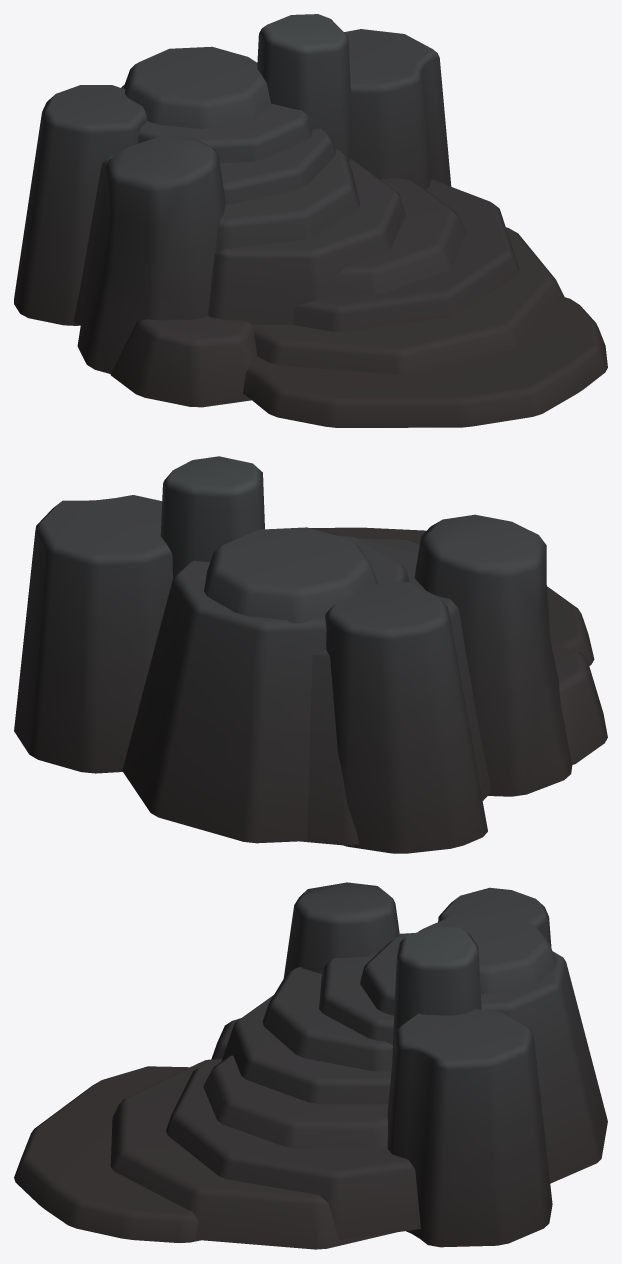
Rendered from inferno-stairs-middle-001.glb.
3 renders of one model, top to bottom at view 1: azimuth 30°, elevation 25°; view 2: azimuth 150°, elevation 25°; view 3: azimuth 270°, elevation 25°, orthographic. The views are drawn at different scales.
Visible parts, largest first — view 1: StairsMiddle_001; view 2: StairsMiddle_001; view 3: StairsMiddle_001.
Boxes of the visible parts, x1,y1,x2,y2 form: StairsMiddle_001: (14,14,607,427); StairsMiddle_001: (14,456,607,853); StairsMiddle_001: (14,882,607,1249).
Bounding box in the file's own units: 10.14 × 5.5 × 12.42.
1 material, 1 textured.
